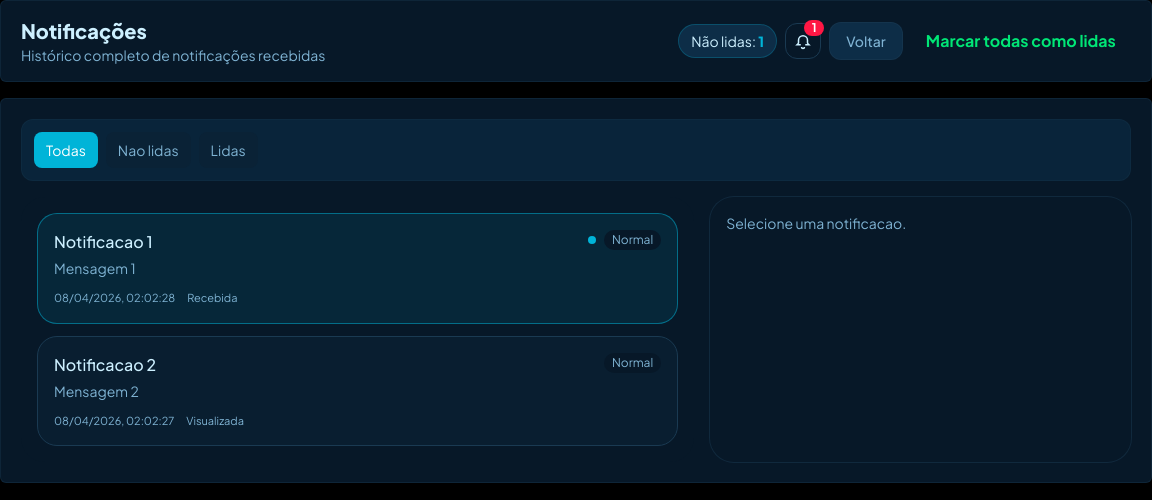
Test case: UserDashboard › marca todas como lidas na pagina completa
expect the element with test id "unread-counter" reads "Não lidas: 1": met, box 678,24 -> 777,58
Click the button with test id "mark-all-read-btn": coordinates (1021, 41) 911,19 -> 1131,63
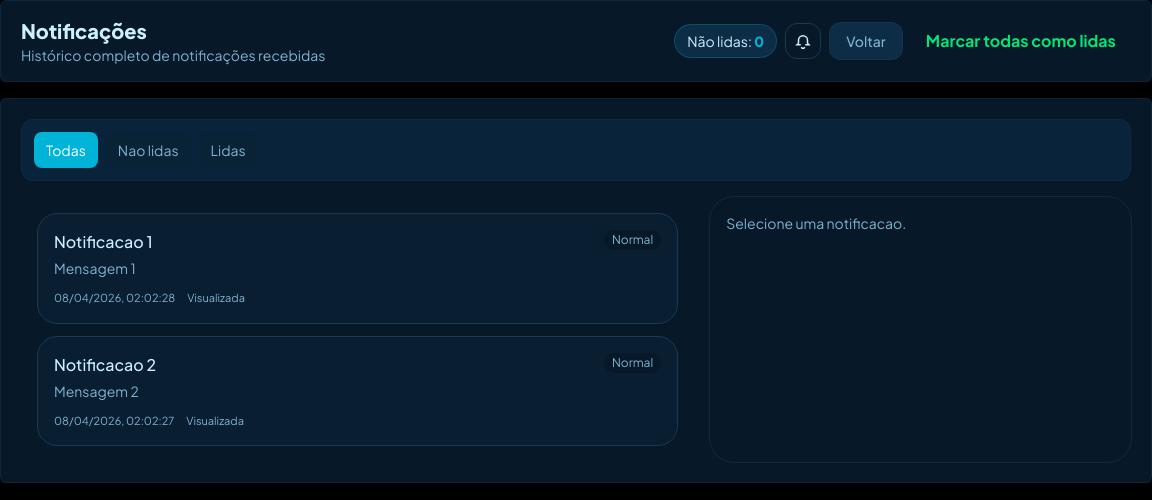
expect the element with test id "unread-counter" reads "Não lidas: 0": met, box 674,24 -> 777,58
